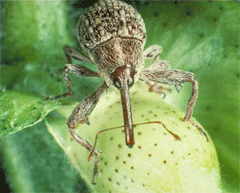dolgonosik: (62, 1, 210, 180)
